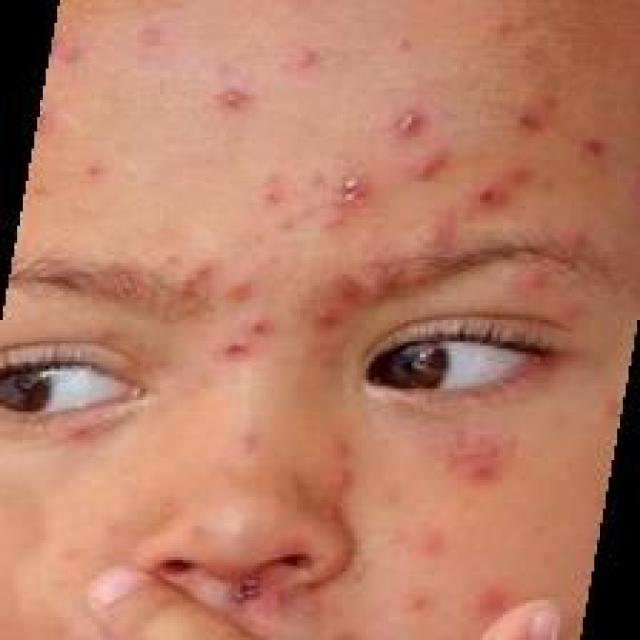others: (68, 0, 594, 640)
